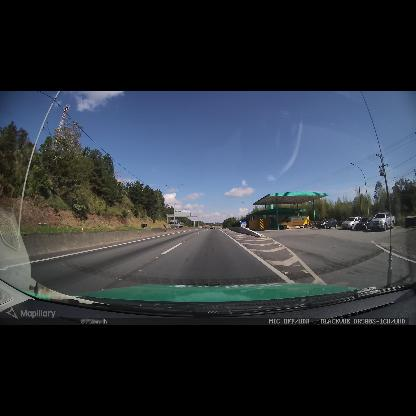O-MP: (260, 219, 264, 229), (234, 225, 235, 227)
